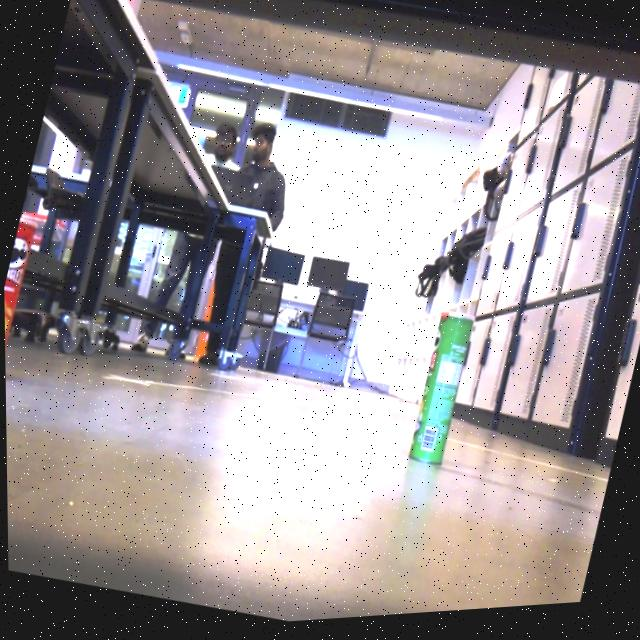greenpringles: (392, 303, 493, 494)
redpringles: (2, 199, 53, 397)
